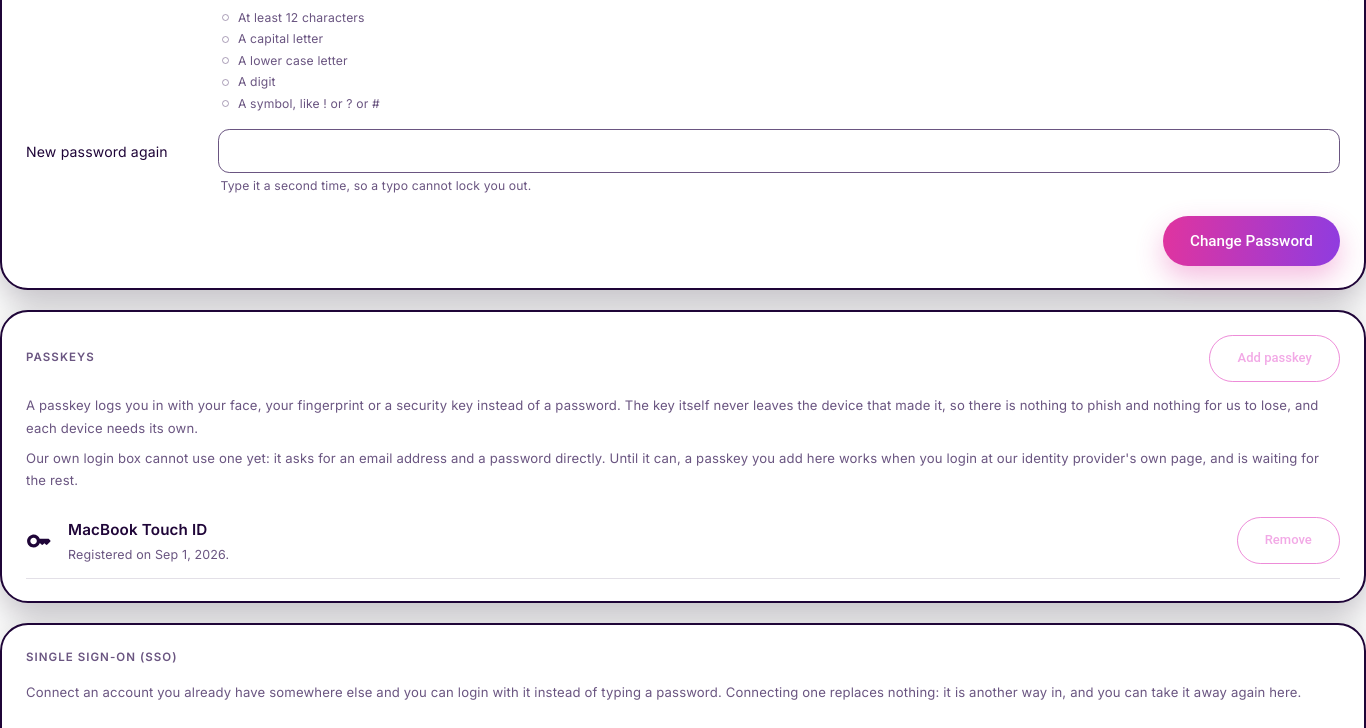
Test: adding a passkey › asks before the page goes anywhere
(page scrolled)
Click the button "Add passkey" at (1275, 358), box top-left (1209, 334), bottom-right (1340, 382)
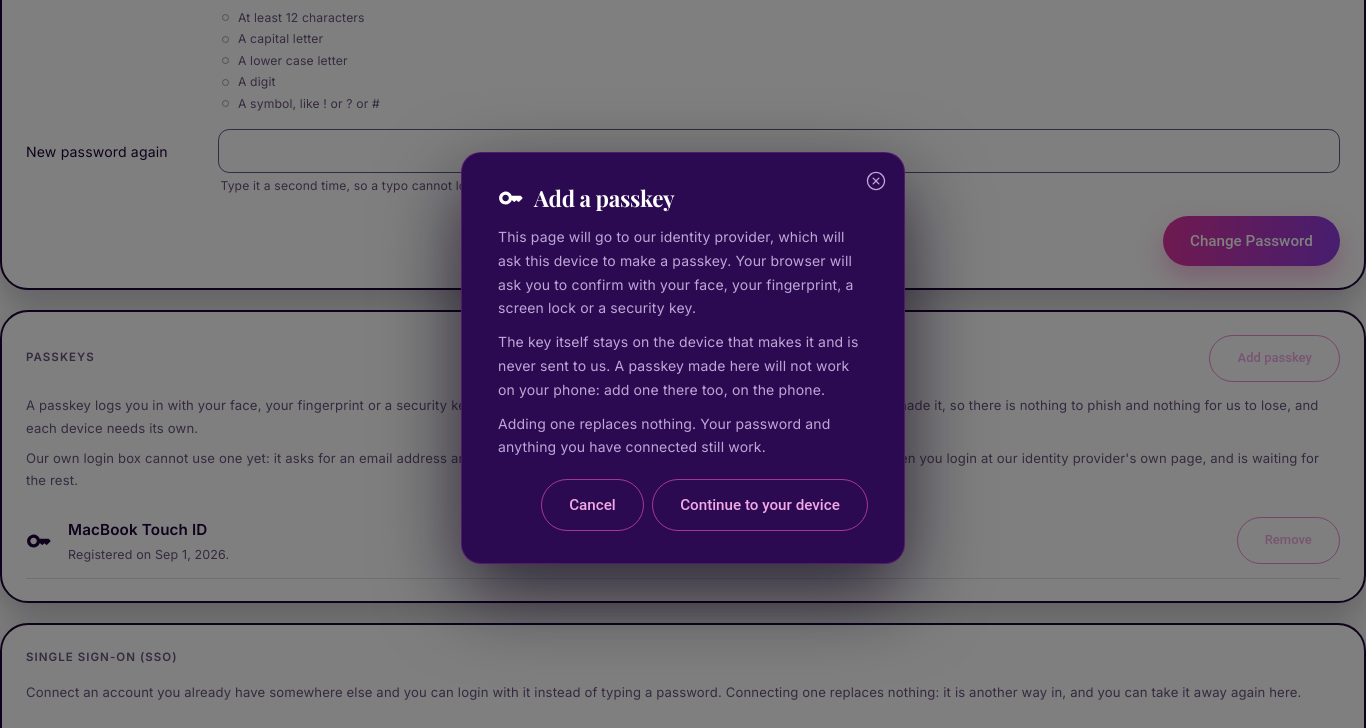
Expected: the dialog is shown, top-left (461, 152), bottom-right (905, 564)
